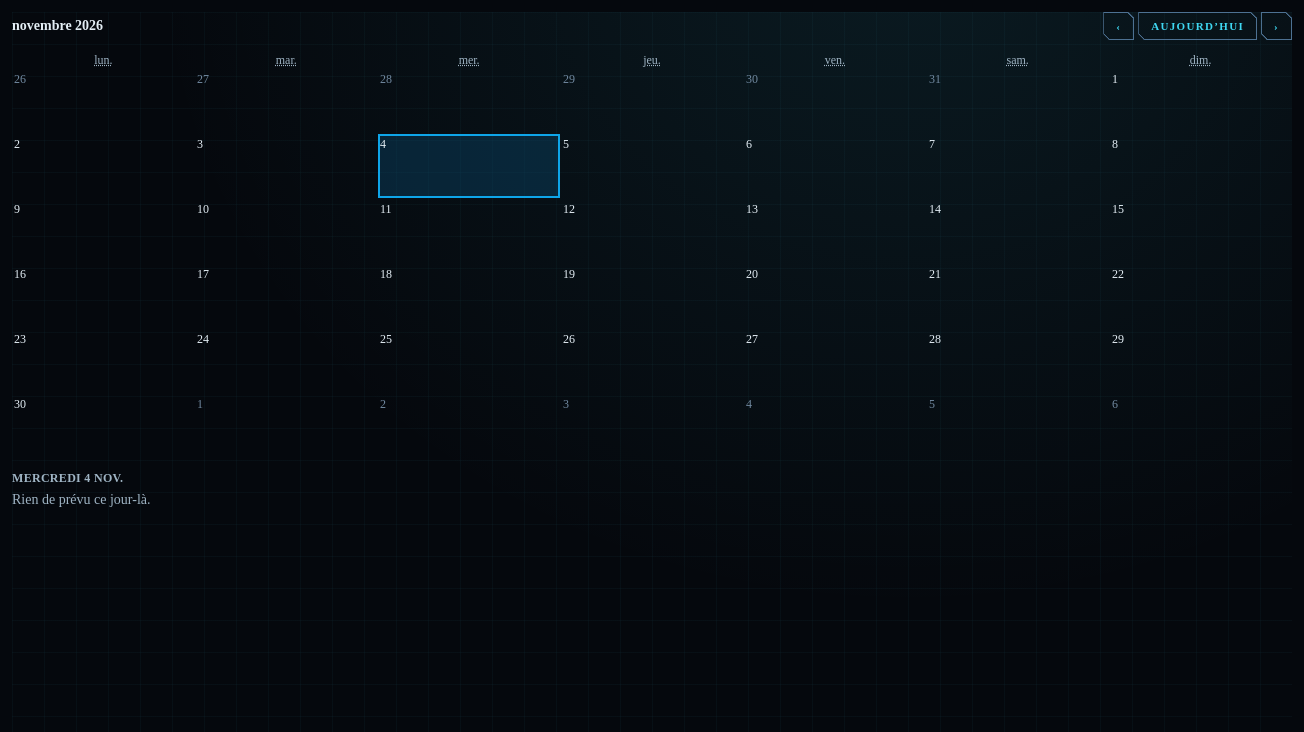
Test case: AgendaMonth › limite la navigation au mois précédent et au mois suivant
Click the button named "Mois précédent".
click(1119, 26)  # box x1=1103 y1=12 x2=1134 y2=40
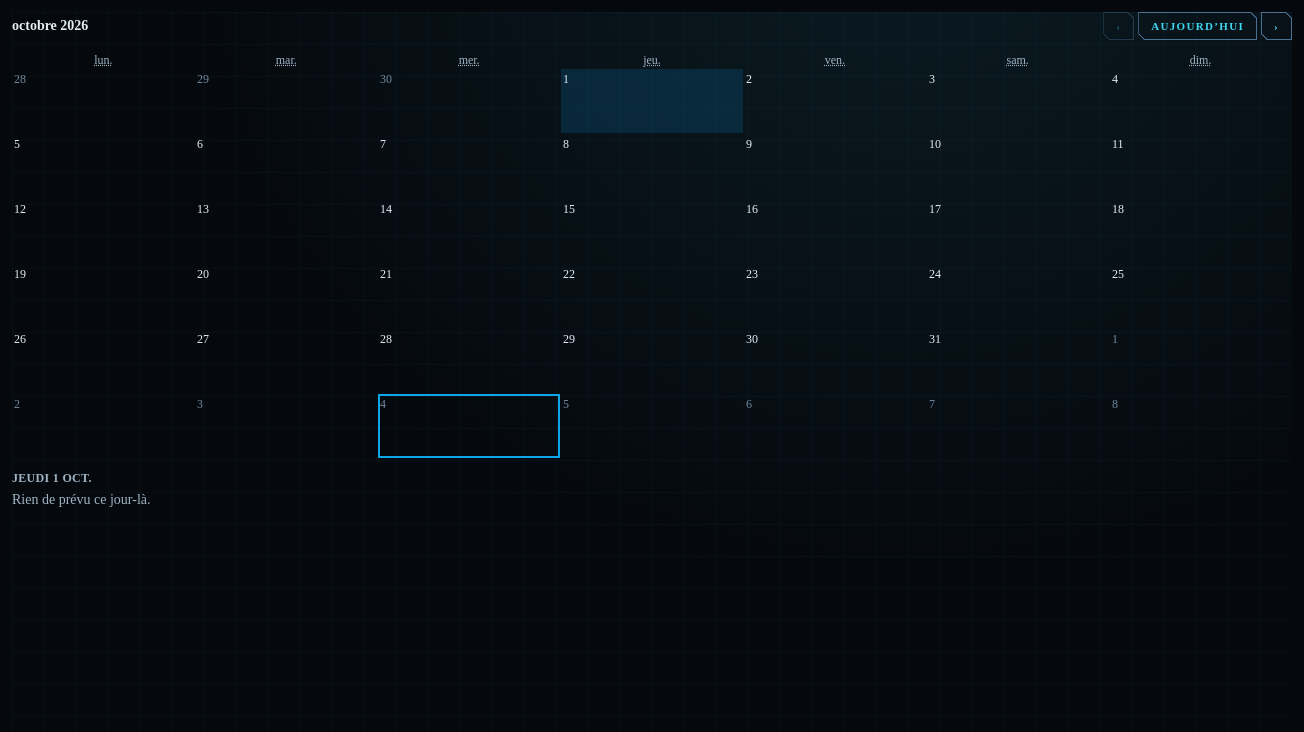
Now the heading "octobre 2026" is shown, box x1=12 y1=18 x2=88 y2=33
Click the button named "Mois suivant".
click(1276, 26)  # box x1=1261 y1=12 x2=1292 y2=40
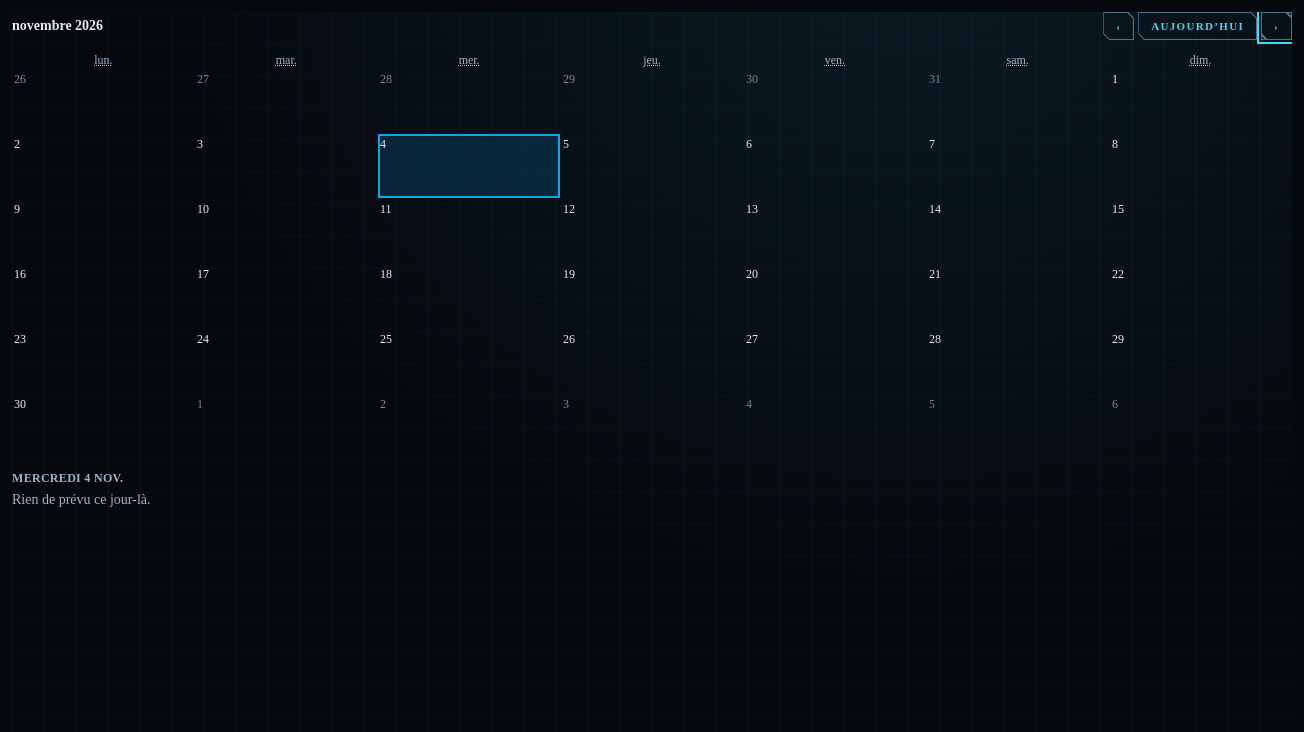
Click the button named "Mois suivant".
click(1276, 26)  # box x1=1261 y1=12 x2=1292 y2=40
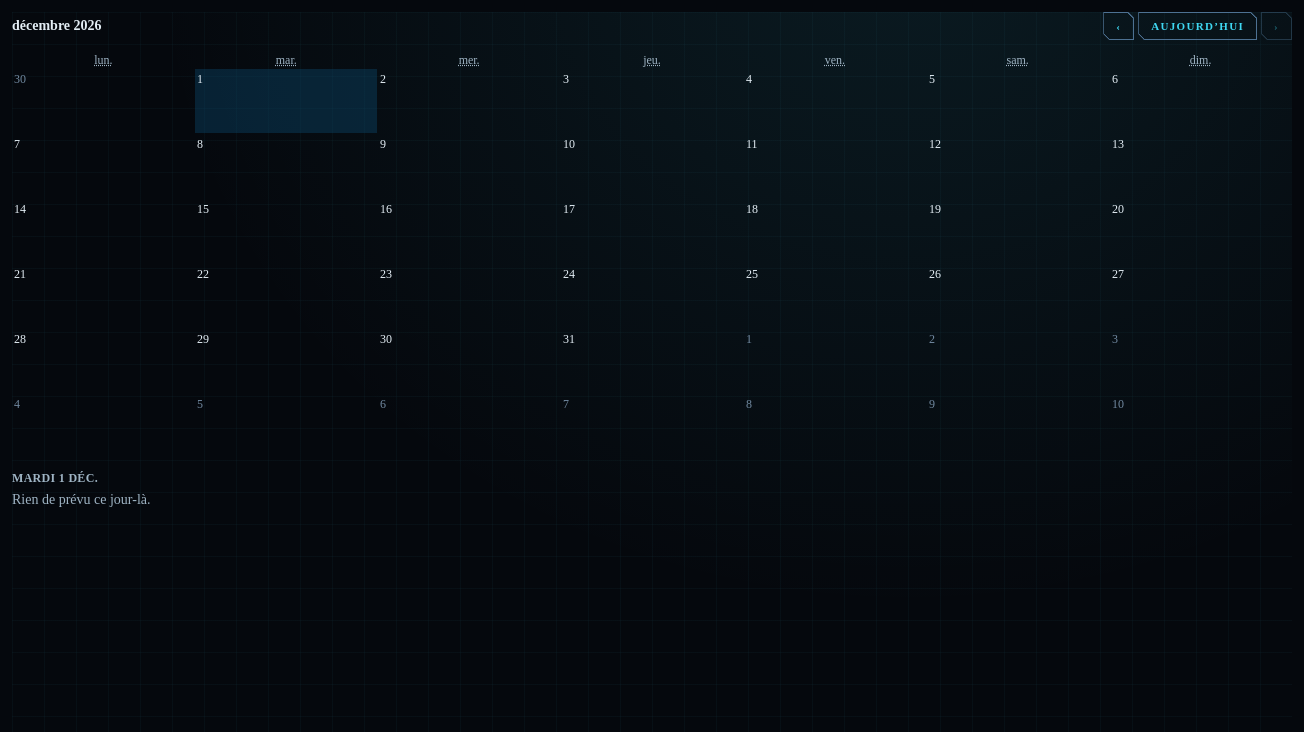
Now the heading "décembre 2026" is shown, box x1=12 y1=18 x2=102 y2=33
